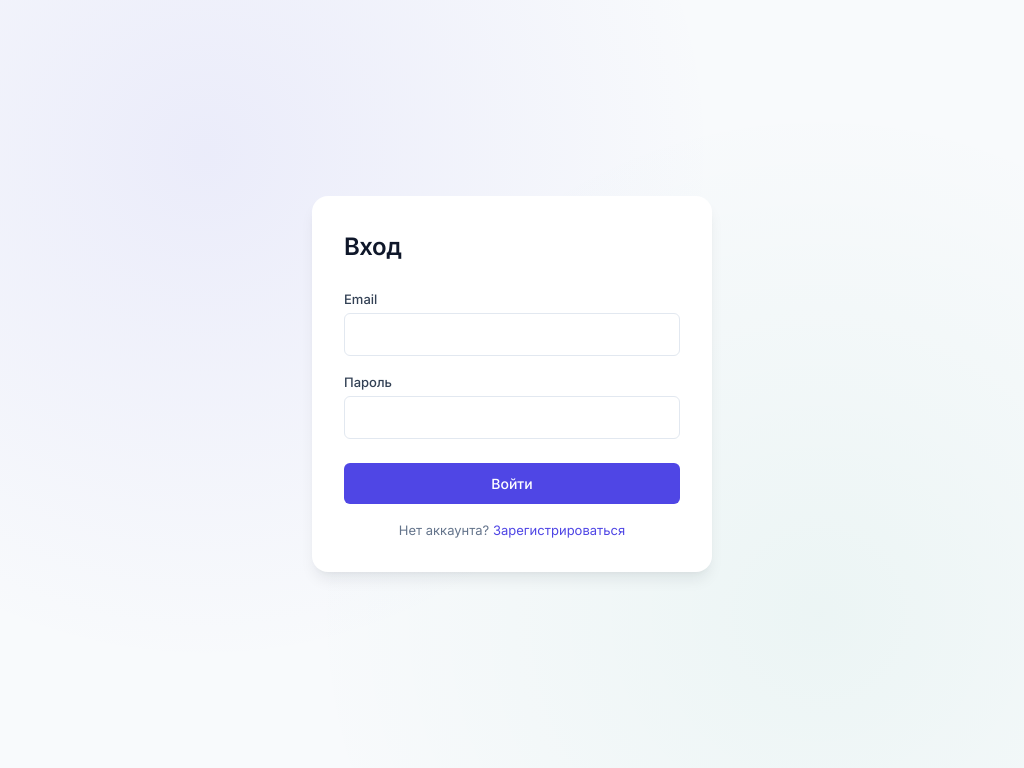
Test: LoginPage › показывает ошибку 401 INVALID_CREDENTIALS
Type "user@example.com" into the field labelled "Email".
click(512, 334); type("user@example.com")  # box [344,313,680,356]
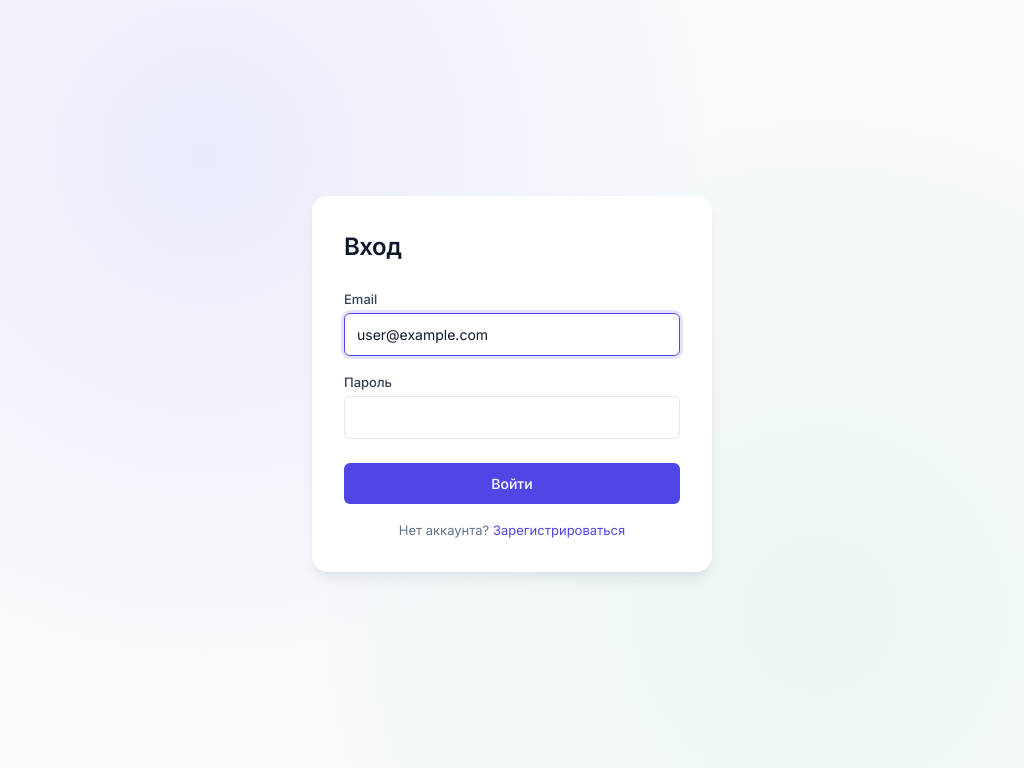
Type "wrongpass" into the password field labelled "Пароль".
click(512, 418); type("wrongpass")  # box [344,396,680,439]
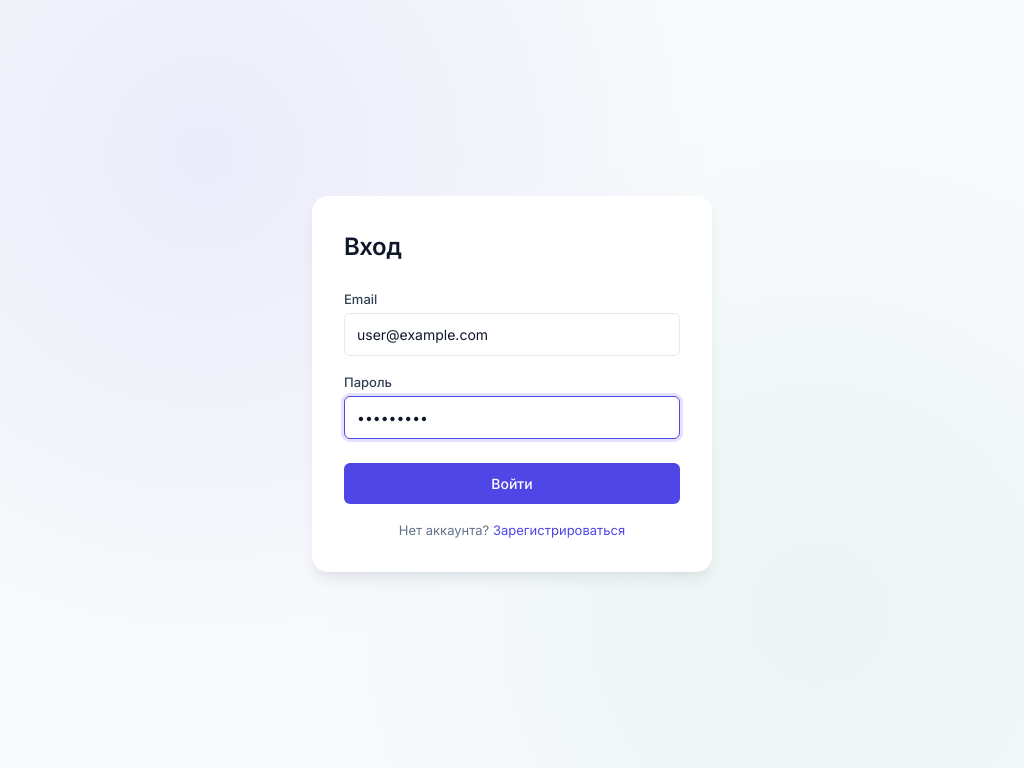
Click the button "Войти".
click(512, 484)  # box [344,463,680,504]
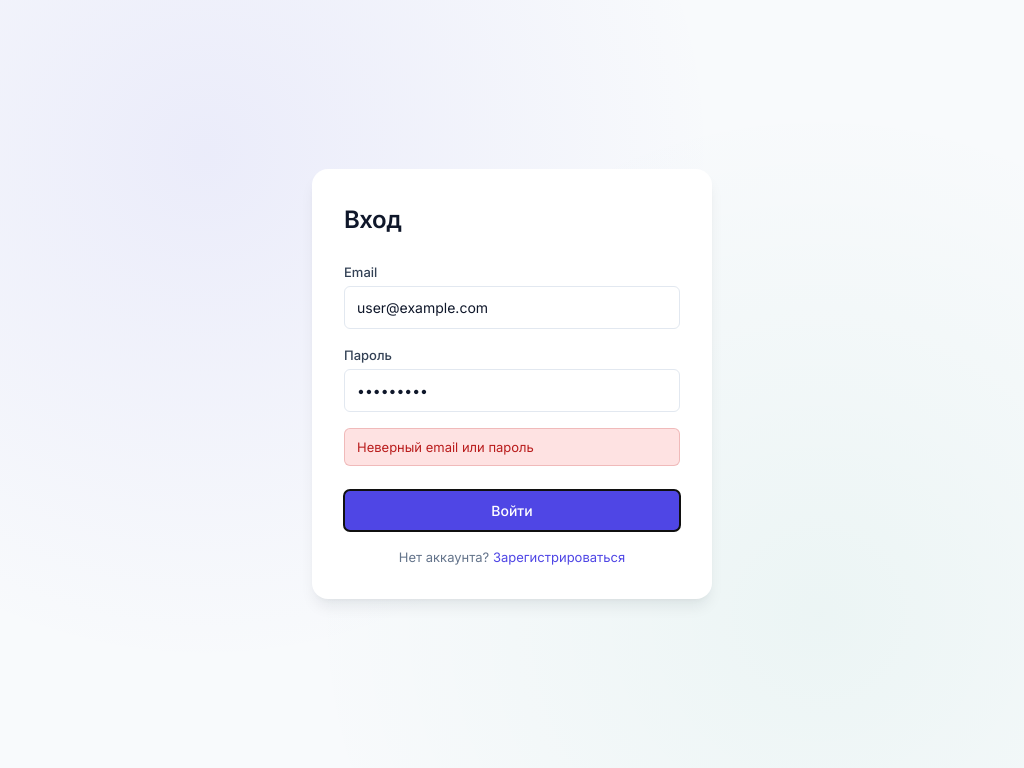
Check: the text "Неверный email или пароль" is shown, box [344,428,680,466]
